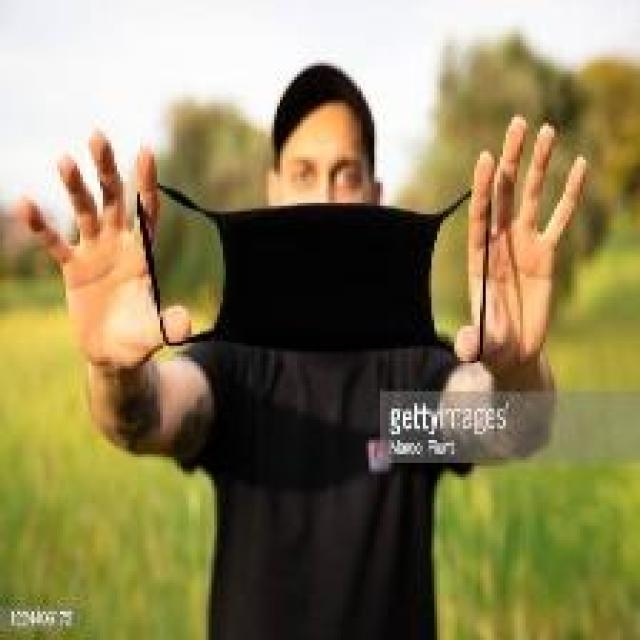Mask: (122, 169, 497, 385)
